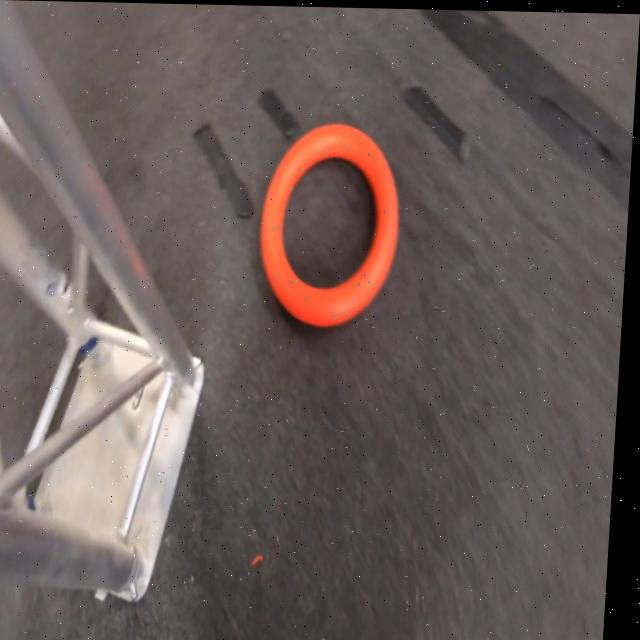note: (257, 120, 410, 322)
